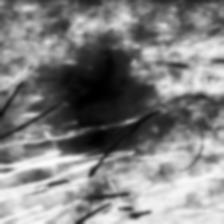Potentially Malignant Skin Tumors: (59, 46, 143, 150)
